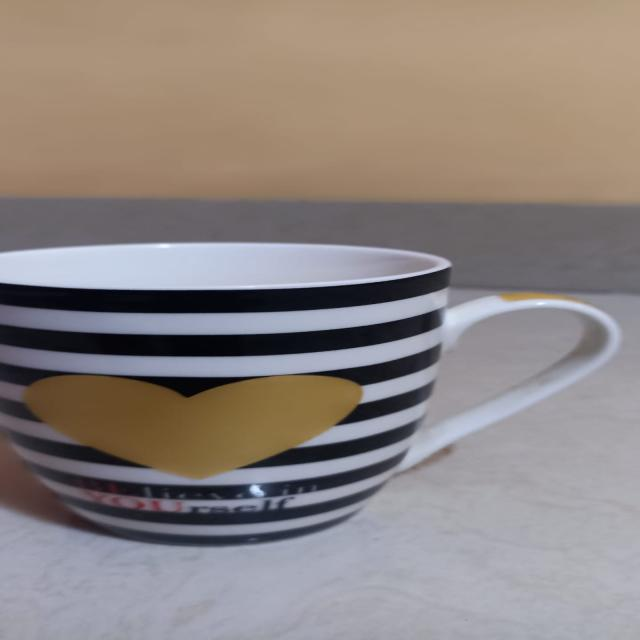cup: (0, 228, 609, 557)
